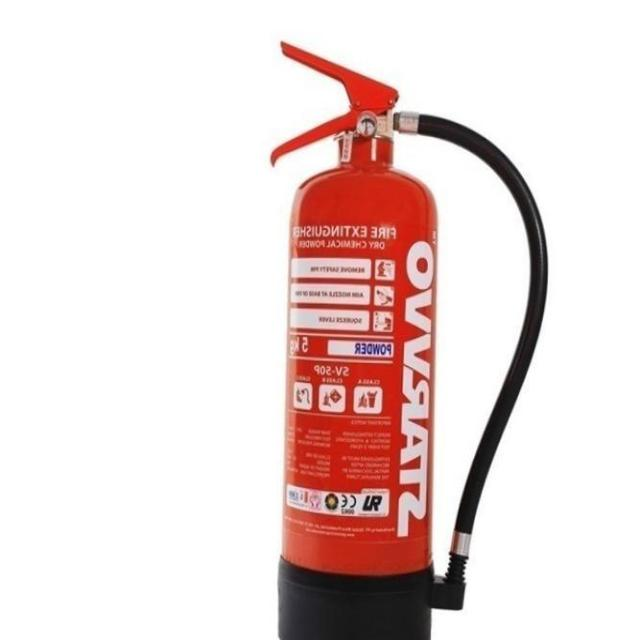fire_extinguisher: (266, 36, 554, 639)
